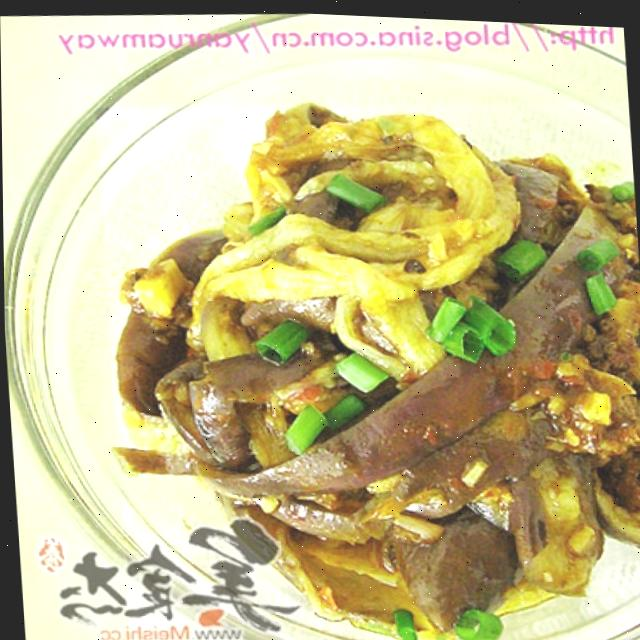鸡蛋料理: (48, 20, 640, 640)
